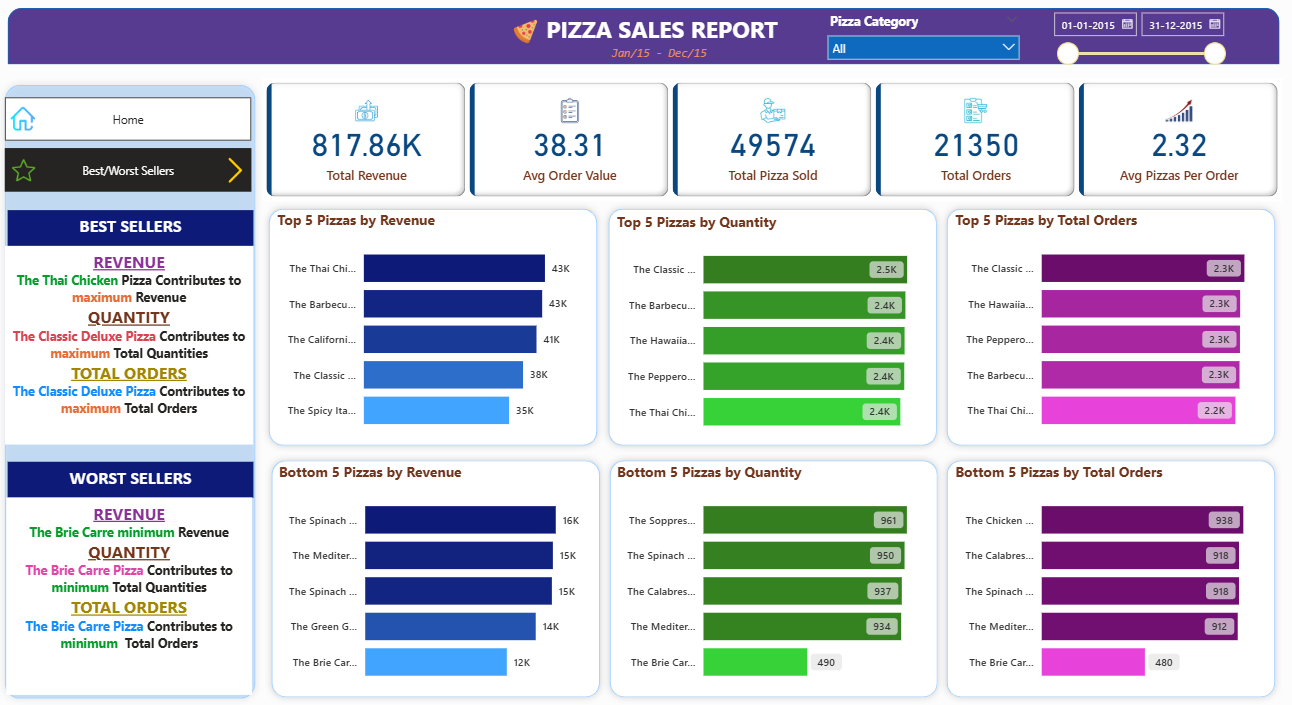

The page's visual inventory and layout, read from the dashboard file:
{"tool":"powerbi","page":{"name":"Best/Worst Sellers","canvas":[1500,820],"ordinal":1},"visuals":[{"type":"shape","box":[11.1,12.7,1471.3,65.2],"z":0},{"type":"shape","box":[0,94.3,305.7,725.7],"z":1000},{"type":"textbox","box":[11.4,247.1,284.3,41.4],"z":2000},{"type":"cardVisual","fields":{"Data":["pizza_sales.Total Revenue","pizza_sales.Avg Order Value","pizza_sales.Total pizza sold","pizza_sales.Total Orders","pizza_sales.Avg Pizzas Per Order"]},"box":[305.7,94.3,1180,142.9],"z":3000},{"type":"textbox","box":[620,12.9,295.7,45.7],"z":4000},{"type":"textbox","box":[704.3,48.6,128.6,30],"z":5000},{"type":"image","box":[590,20,40,38.6],"z":6000},{"type":"shape","box":[305.7,237.1,395.7,290],"z":7000},{"type":"textbox","box":[8.6,288.6,287.1,230],"z":8000},{"type":"textbox","box":[11.4,537.1,284.3,41.4],"z":9000},{"type":"textbox","box":[10,578.6,284.3,228.6],"z":10000},{"type":"slicer","fields":{"Values":["pizza_sales.pizza_category"]},"box":[949.6,12.7,241.8,60.4],"z":11000},{"type":"slicer","fields":{"Values":["pizza_sales.order_date"]},"box":[1208.9,8,219.5,71.6],"z":12000},{"type":"shape","box":[1090,237.1,395.7,290],"z":13000},{"type":"shape","box":[698.6,237.1,395.7,290],"z":14000},{"type":"shape","box":[1090,528.6,395.7,290],"z":15000},{"type":"shape","box":[700,528.6,395,290],"z":16000},{"type":"shape","box":[308.6,528.6,395.7,290],"z":17000},{"type":"barChart","title":"Top 5 Pizzas by Revenue","fields":{"Category":["pizza_sales.pizza_name"],"Y":["pizza_sales.Total Revenue"]},"box":[318.6,247.1,370,270],"z":18000},{"type":"barChart","title":"Bottom 5 Pizzas by Revenue","fields":{"Category":["pizza_sales.pizza_name"],"Y":["pizza_sales.Total Revenue"]},"box":[320,537.1,370,270],"z":19000},{"type":"barChart","title":"Top 5 Pizzas by Quantity","fields":{"Category":["pizza_sales.pizza_name"],"Y":["pizza_sales.Total Pizza Sold"]},"box":[711.4,248.6,370,270],"z":20000},{"type":"barChart","title":"Top 5 Pizzas by Total Orders","fields":{"Category":["pizza_sales.pizza_name"],"Y":["pizza_sales.Total Orders"]},"box":[1102.9,247.1,370,270],"z":21000},{"type":"barChart","title":"Bottom 5 Pizzas by Quantity","fields":{"Category":["pizza_sales.pizza_name"],"Y":["pizza_sales.Total Pizza Sold"]},"box":[711.4,537.1,370,270],"z":22000},{"type":"barChart","title":"Bottom 5 Pizzas by Total Orders","fields":{"Category":["pizza_sales.pizza_name"],"Y":["pizza_sales.Total Orders"]},"box":[1102.9,537.1,370,270],"z":23000},{"type":"pageNavigator","box":[8.6,175.7,285.7,50],"z":24000},{"type":"pageNavigator","box":[8.6,115.7,285.7,50],"z":25000},{"type":"image","box":[10,121.4,38.6,40],"z":26000},{"type":"image","box":[254.3,180,40,41.4],"z":27000},{"type":"image","box":[11.4,180,37.1,41.4],"z":28000}]}

Visuals, with their boxes in screenshot pixels (x1, y1, x2, y2), scaled from the page's 1500x820 canvas onto the 1292x705 screenshot:
shape: left=10, top=11, right=1277, bottom=67
shape: left=0, top=81, right=263, bottom=704
textbox: left=10, top=212, right=255, bottom=248
cardVisual - pizza_sales.Total Revenue x pizza_sales.Avg Order Value: left=263, top=81, right=1280, bottom=204
textbox: left=534, top=11, right=789, bottom=50
textbox: left=607, top=42, right=717, bottom=68
image: left=508, top=17, right=543, bottom=50
shape: left=263, top=204, right=604, bottom=453
textbox: left=7, top=248, right=255, bottom=446
textbox: left=10, top=462, right=255, bottom=497
textbox: left=9, top=497, right=253, bottom=694
slicer - pizza_sales.pizza_category: left=818, top=11, right=1026, bottom=63
slicer - pizza_sales.order_date: left=1041, top=7, right=1230, bottom=68
shape: left=939, top=204, right=1280, bottom=453
shape: left=602, top=204, right=943, bottom=453
shape: left=939, top=454, right=1280, bottom=704
shape: left=603, top=454, right=943, bottom=704
shape: left=266, top=454, right=607, bottom=704
"Top 5 Pizzas by Revenue" barChart: left=274, top=212, right=593, bottom=445
"Bottom 5 Pizzas by Revenue" barChart: left=276, top=462, right=594, bottom=694
"Top 5 Pizzas by Quantity" barChart: left=613, top=214, right=931, bottom=446
"Top 5 Pizzas by Total Orders" barChart: left=950, top=212, right=1269, bottom=445
"Bottom 5 Pizzas by Quantity" barChart: left=613, top=462, right=931, bottom=694
"Bottom 5 Pizzas by Total Orders" barChart: left=950, top=462, right=1269, bottom=694
pageNavigator: left=7, top=151, right=253, bottom=194
pageNavigator: left=7, top=99, right=253, bottom=142
image: left=9, top=104, right=42, bottom=139
image: left=219, top=155, right=253, bottom=190
image: left=10, top=155, right=42, bottom=190
